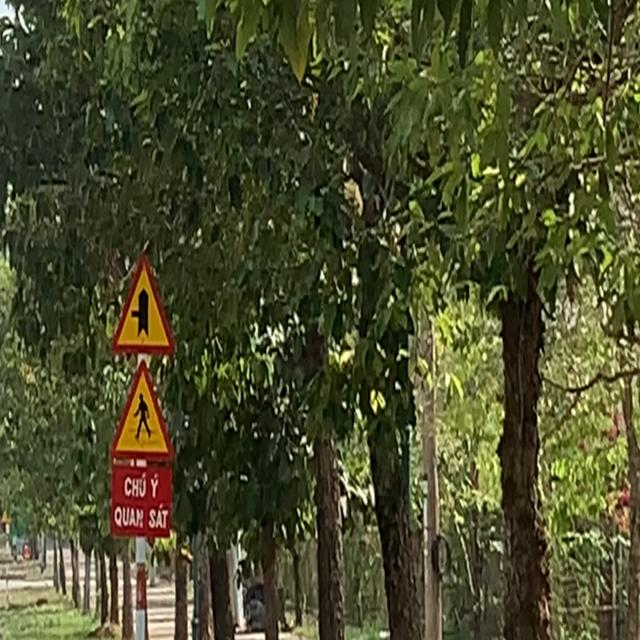Giao voi duong khong uu tien: (109, 248, 177, 359)
Nguoi di bo cat ngang: (110, 354, 176, 468)
